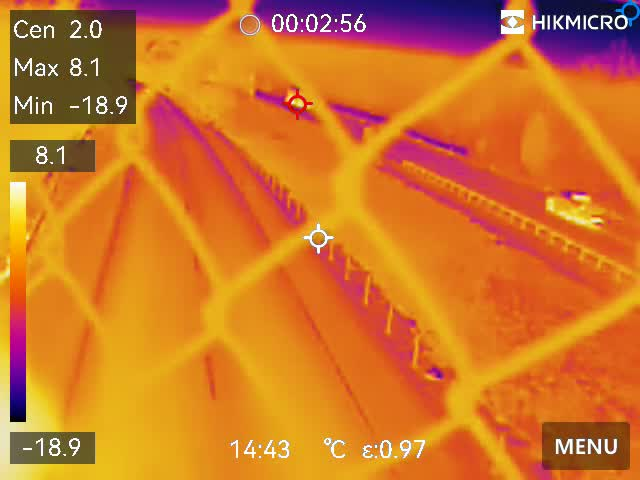vehicle: (538, 186, 613, 227)
